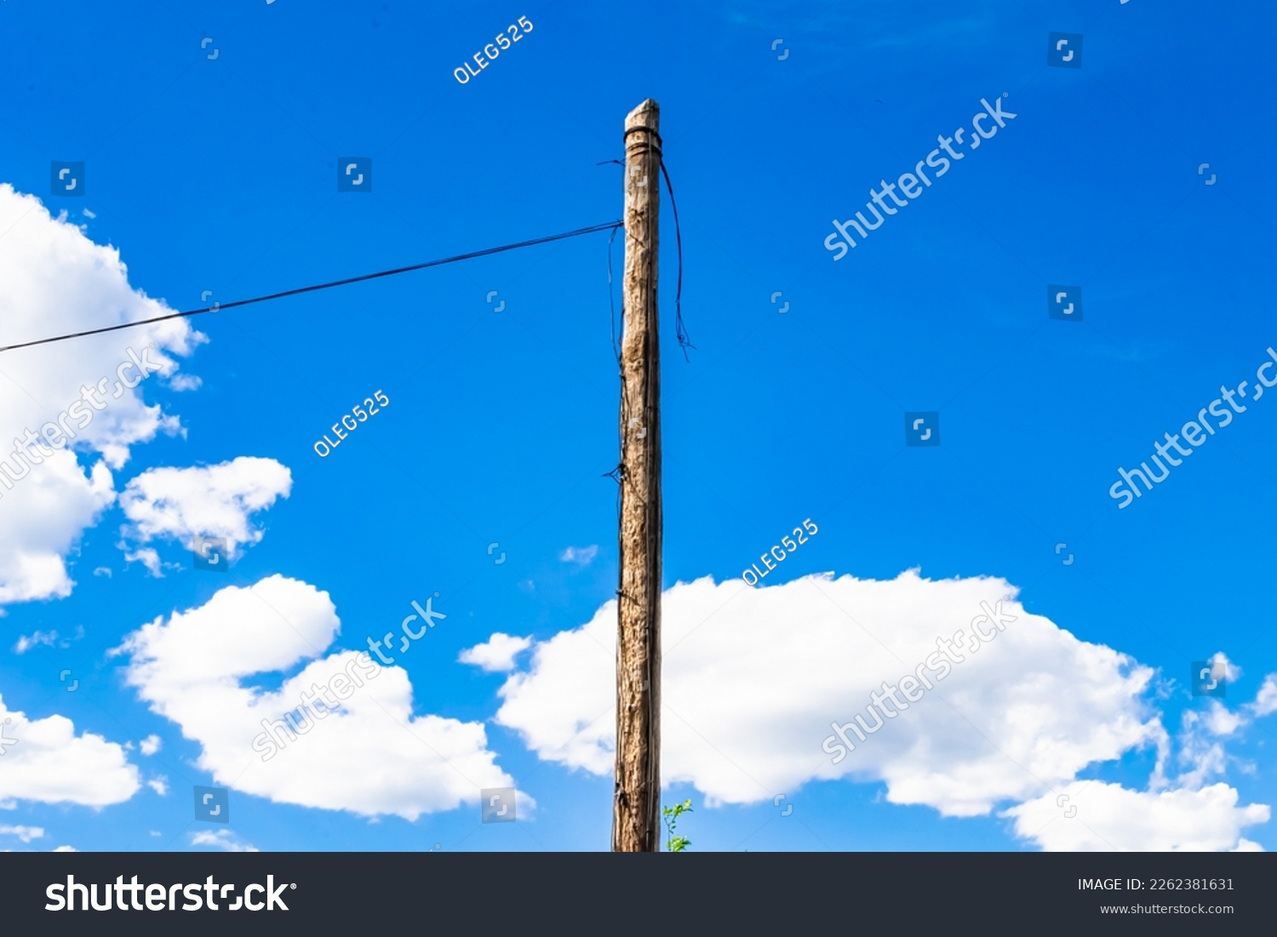light_pole: (592, 79, 669, 880)
